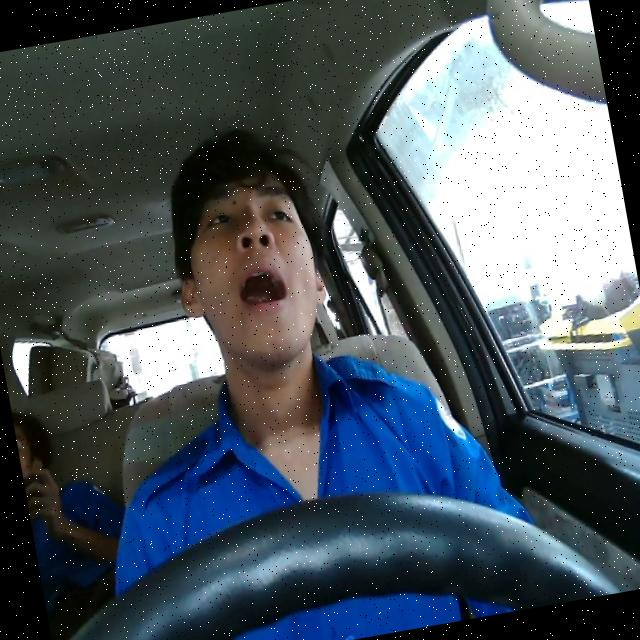yarning: (158, 161, 334, 374)
